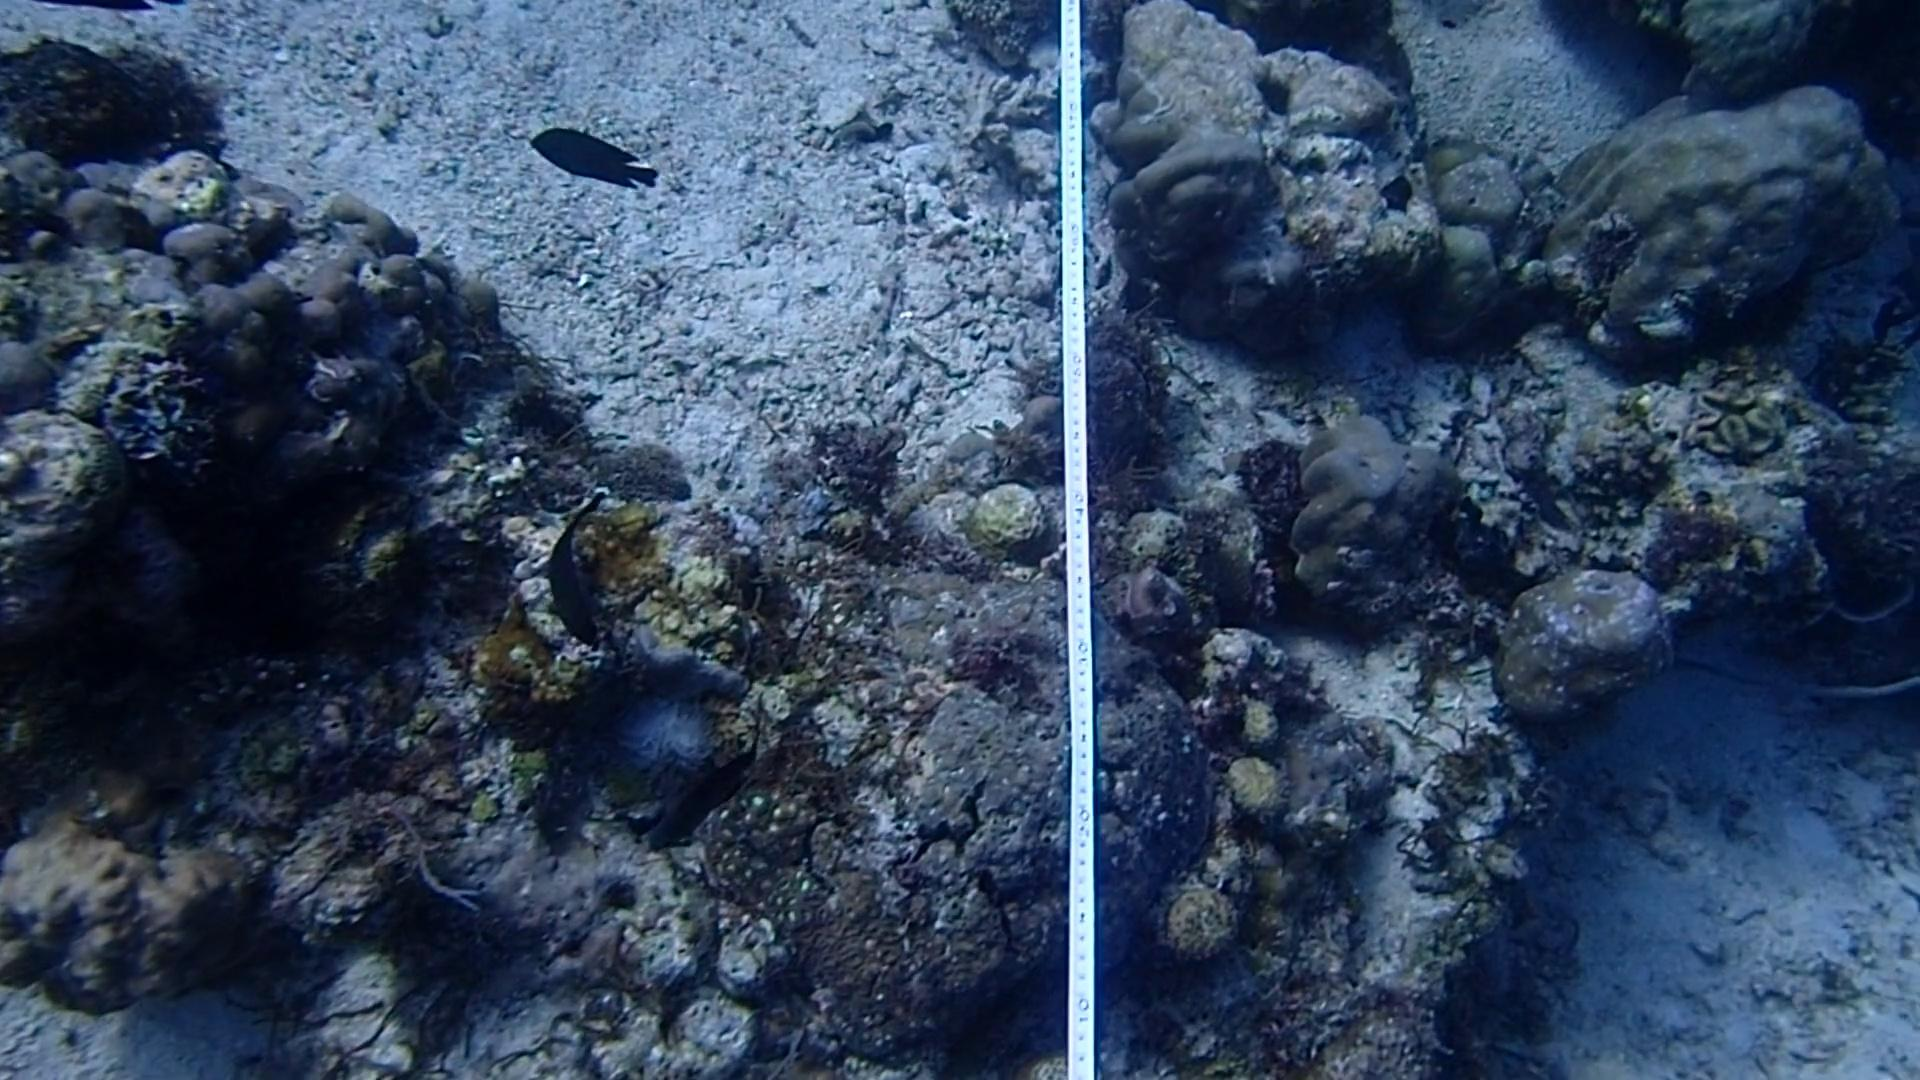Dark Fish: (514, 111, 667, 208), (634, 731, 757, 852), (529, 491, 617, 651)
